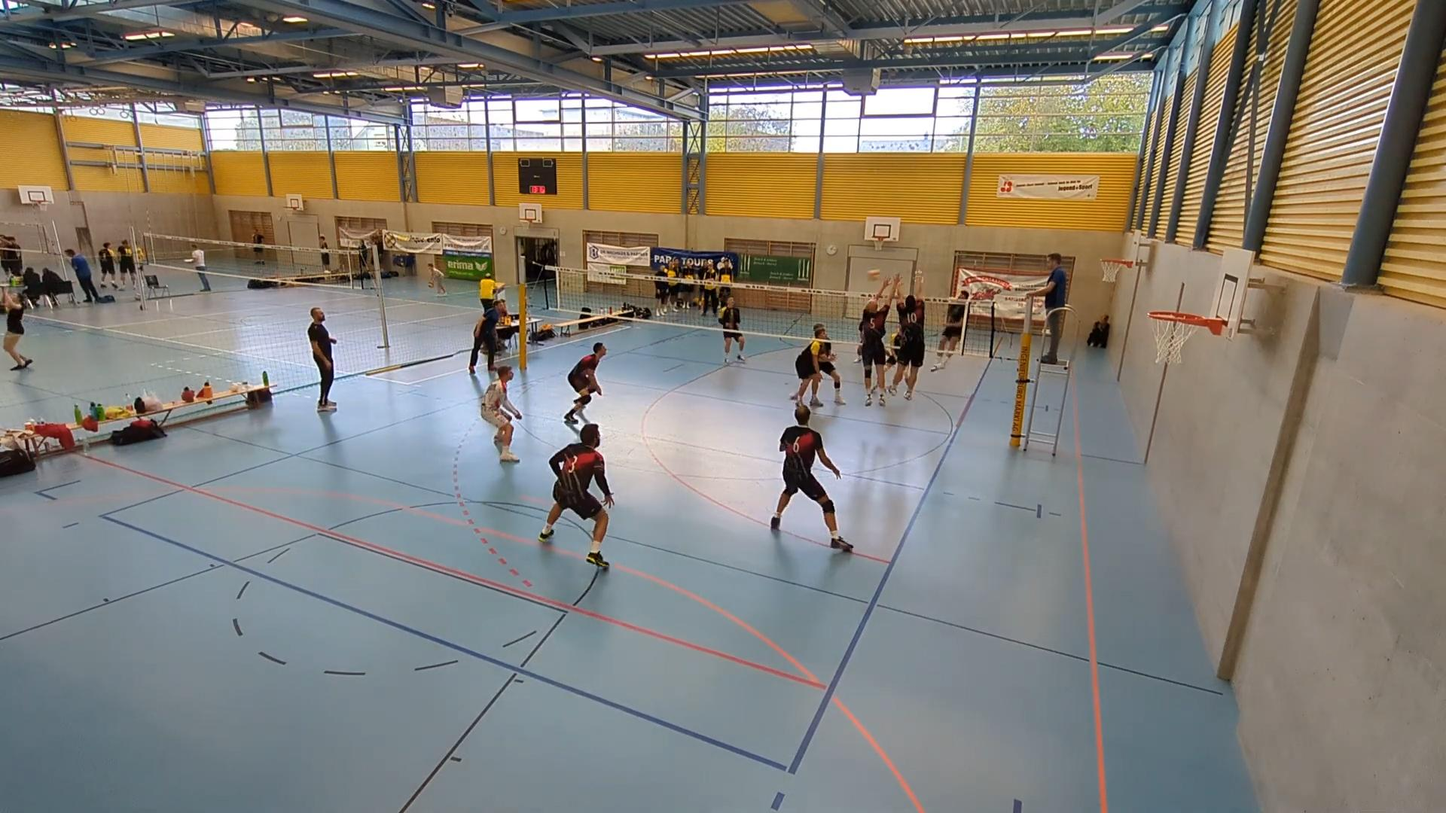Attack: (933, 275, 981, 386)
Block: (855, 276, 900, 405), (888, 272, 929, 404)
Player: (770, 403, 853, 552), (538, 424, 613, 568), (791, 324, 845, 406), (480, 365, 522, 461), (563, 342, 606, 423), (468, 300, 507, 373), (718, 297, 745, 364), (880, 330, 902, 379)
ball: (865, 265, 882, 286)
